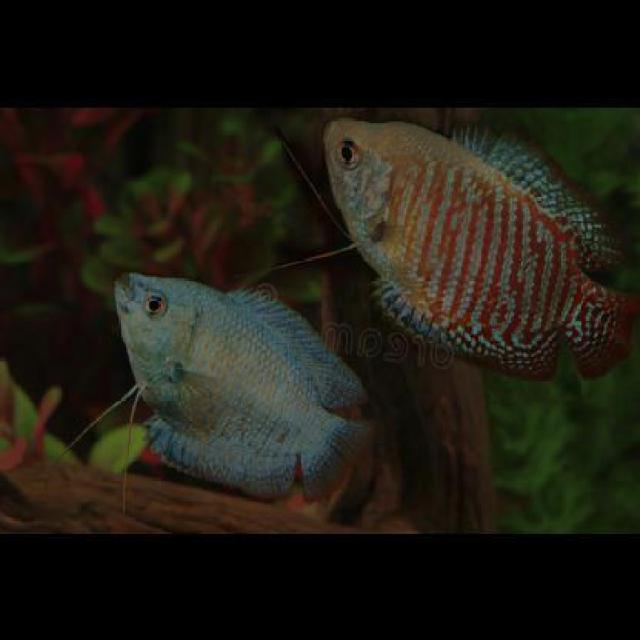Gourami: (318, 113, 639, 379), (108, 267, 375, 499)
